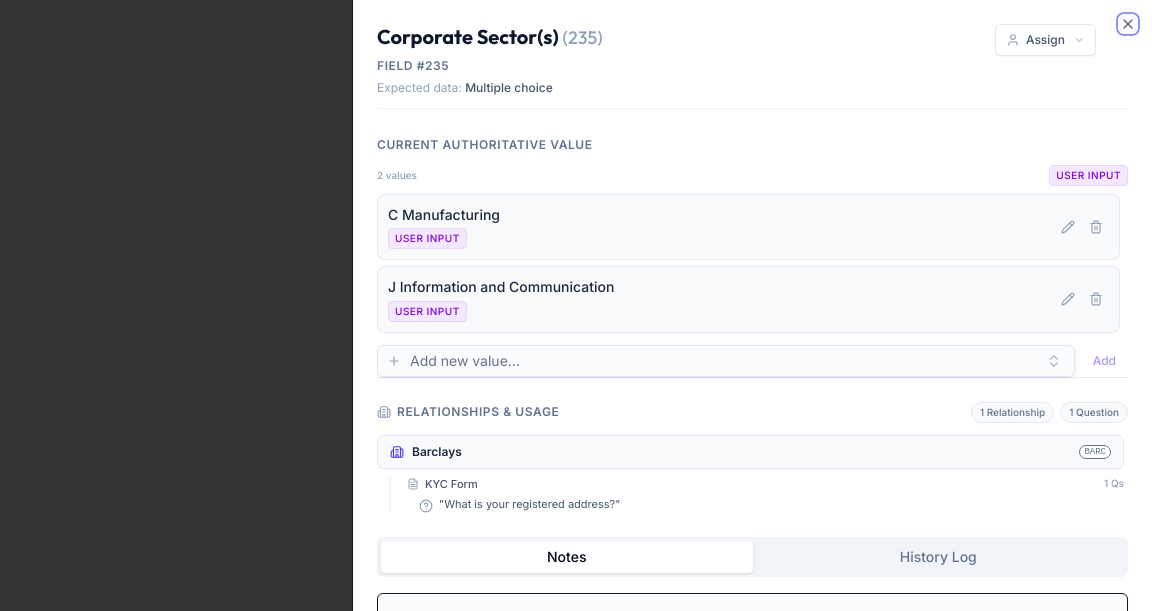
it: FieldDetailPanel - Generic Multi-Value Branch (Field 235 & Generic Repeating Fields) › shows inline Remove / Cancel confirmation when Trash icon is clicked
The image size is (1152, 611).
Expected: the text "C Manufacturing" is shown, left=388, top=206, right=500, bottom=223
Click the button titled "Remove value" in the row of "C Manufacturing".
click(1096, 227)  # box left=1083, top=214, right=1109, bottom=240
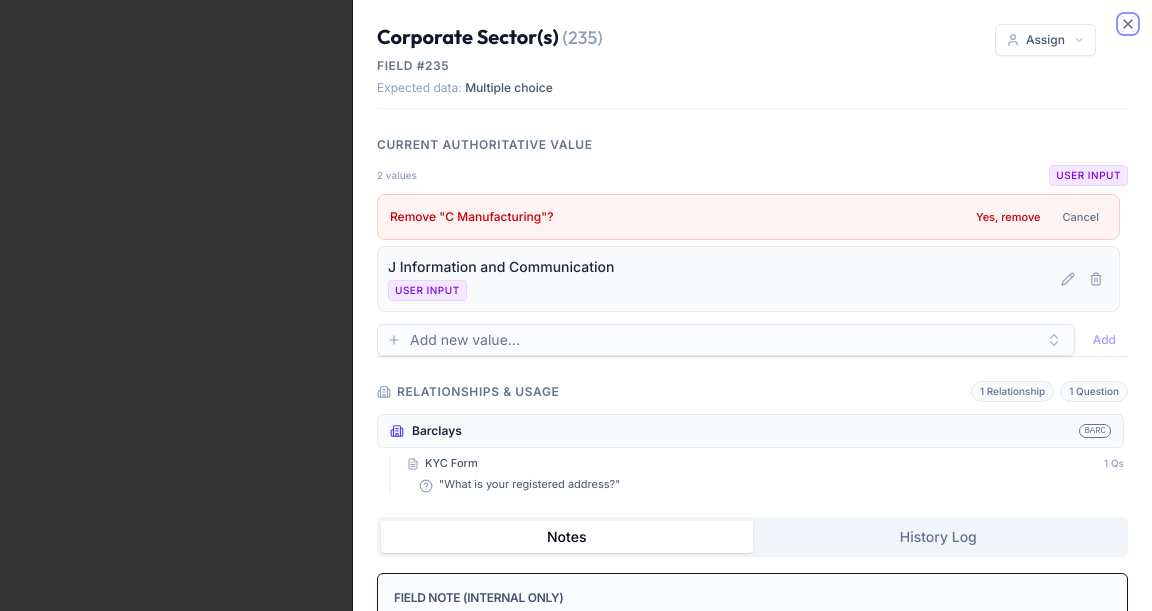
Now the text "Remove \"C Manufacturing\"?" is shown, box left=390, top=209, right=554, bottom=224
Now the button "Yes, remove" is shown, box left=968, top=205, right=1048, bottom=229
Now the button "Cancel" is shown, box left=1054, top=205, right=1107, bottom=229
